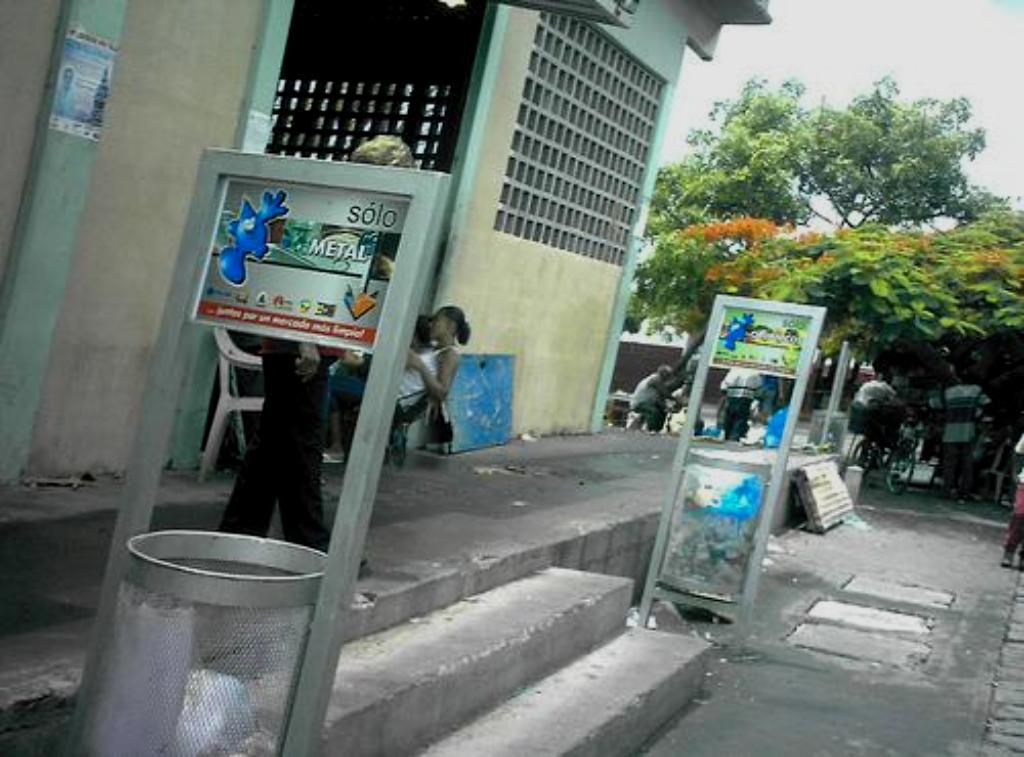dustbin: (655, 296, 827, 640)
